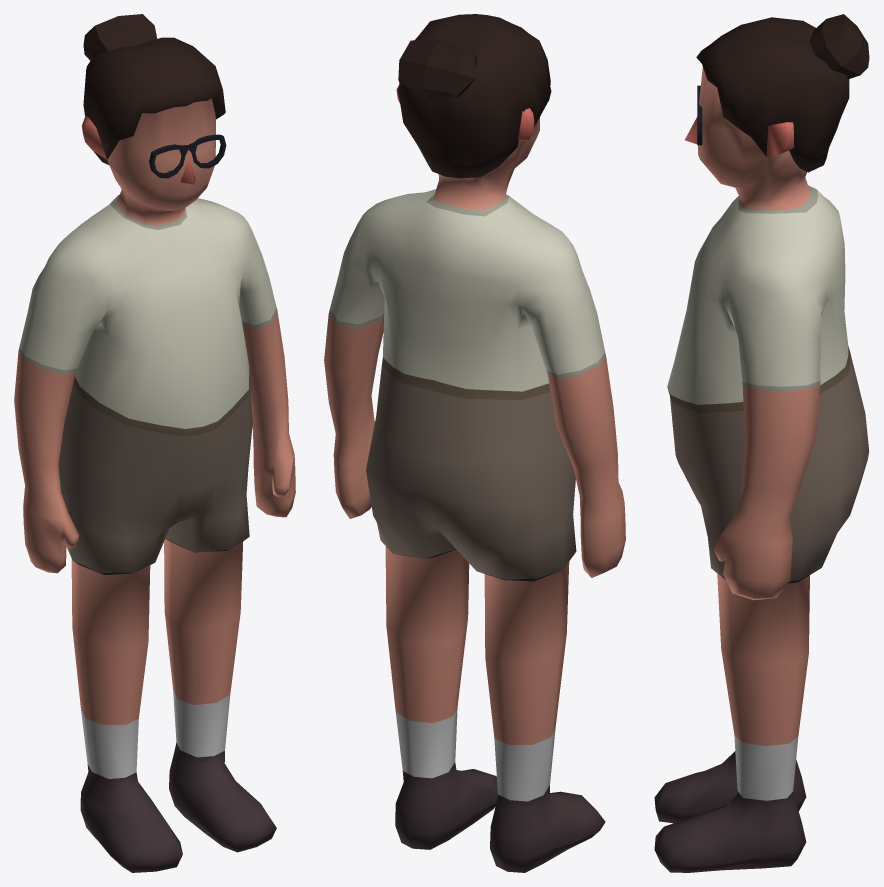
Rendered from CHAR_ITGuy.fbx.
3 renders of one model, left to right at view 1: azimuth 30°, elevation 25°; view 2: azimuth 150°, elevation 25°; view 3: azimuth 270°, elevation 25°, orthographic. The views are drawn at different scales.
Visible parts, largest first — view 1: Character_ITGuy; view 2: Character_ITGuy; view 3: Character_ITGuy.
Part boxes in pixels (box(x1,y1,x2,y2)): Character_ITGuy: box(14, 14, 295, 872); Character_ITGuy: box(324, 14, 625, 872); Character_ITGuy: box(654, 14, 869, 872).
Size of the model in its own units: 0.6525 by 1.85 by 0.4418.
